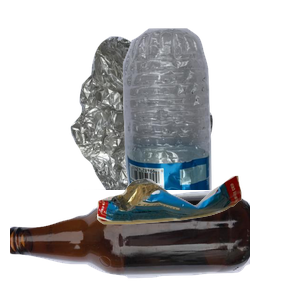glass: (10, 188, 250, 300)
metal: (68, 34, 300, 214)
plastic: (111, 26, 300, 206)
trash: (94, 173, 300, 300)
